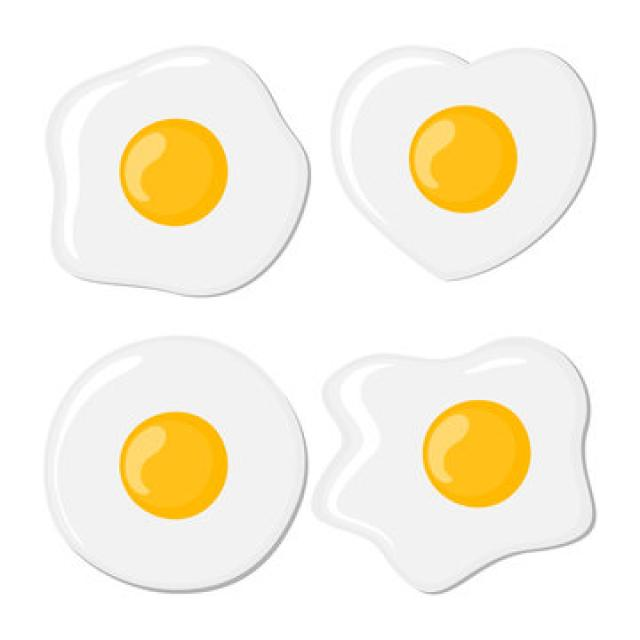Egg: (315, 339, 594, 592), (46, 338, 306, 591), (48, 46, 309, 296), (332, 48, 595, 279)
